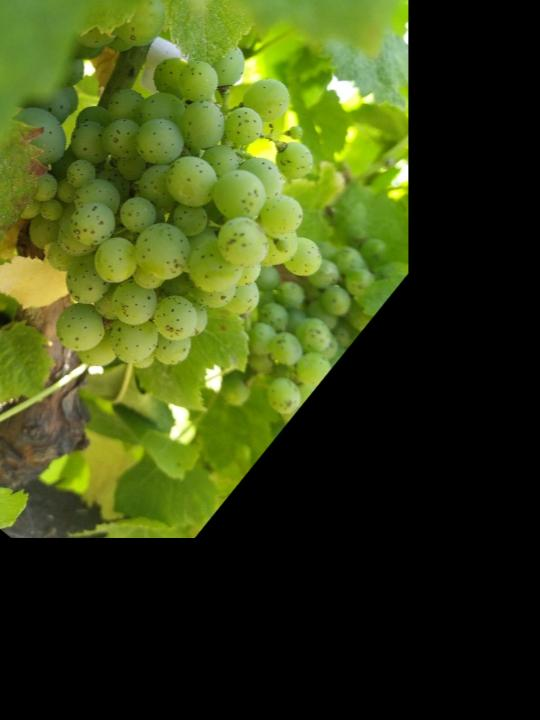grape: (0, 0, 399, 444)
